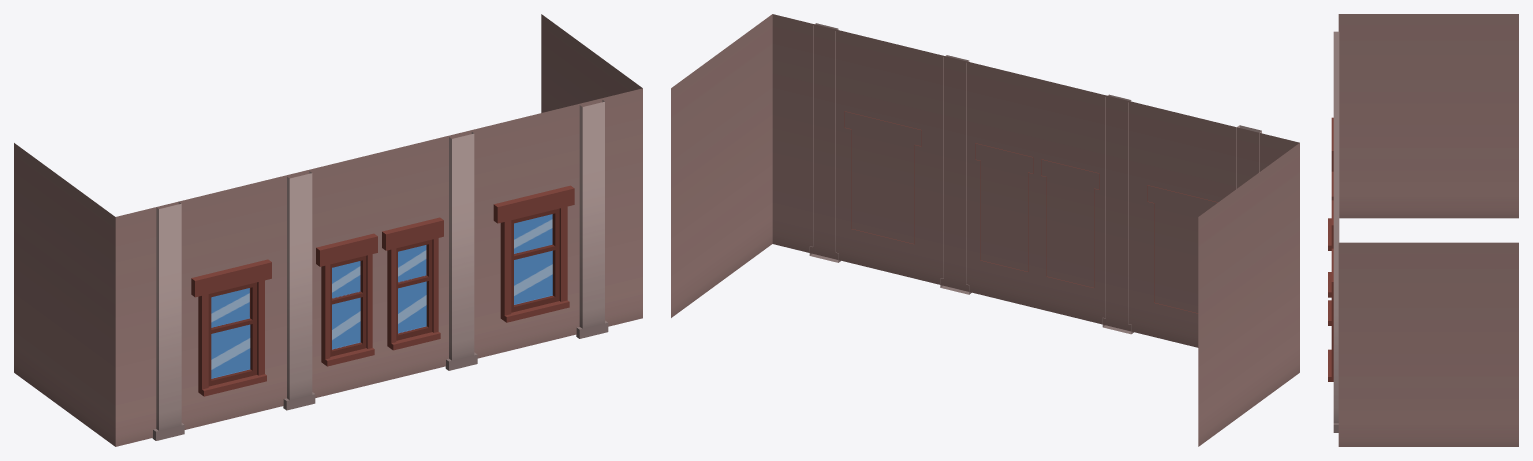
Rendered from Build2_2F.FBX.
The picture shows the model from 3 angles, left to right: view 1: azimuth 30°, elevation 25°; view 2: azimuth 150°, elevation 25°; view 3: azimuth 270°, elevation 25°; orthographic projection. The views are drawn at different scales.
Parts seen in each view (by area): view 1: Build02_2F; view 2: Build02_2F; view 3: Build02_2F.
Part boxes in pixels (bbox=[...]): Build02_2F: bbox=[14, 14, 642, 446]; Build02_2F: bbox=[671, 14, 1299, 446]; Build02_2F: bbox=[1328, 14, 1518, 446].
Bounding box in the file's own units: 6 × 2.53 × 2.12.
